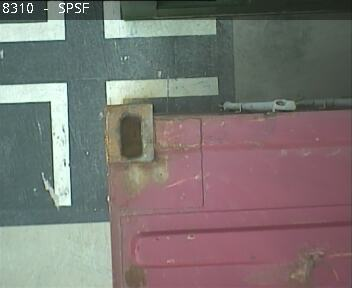groundmarker_1: (1, 77, 220, 205)
